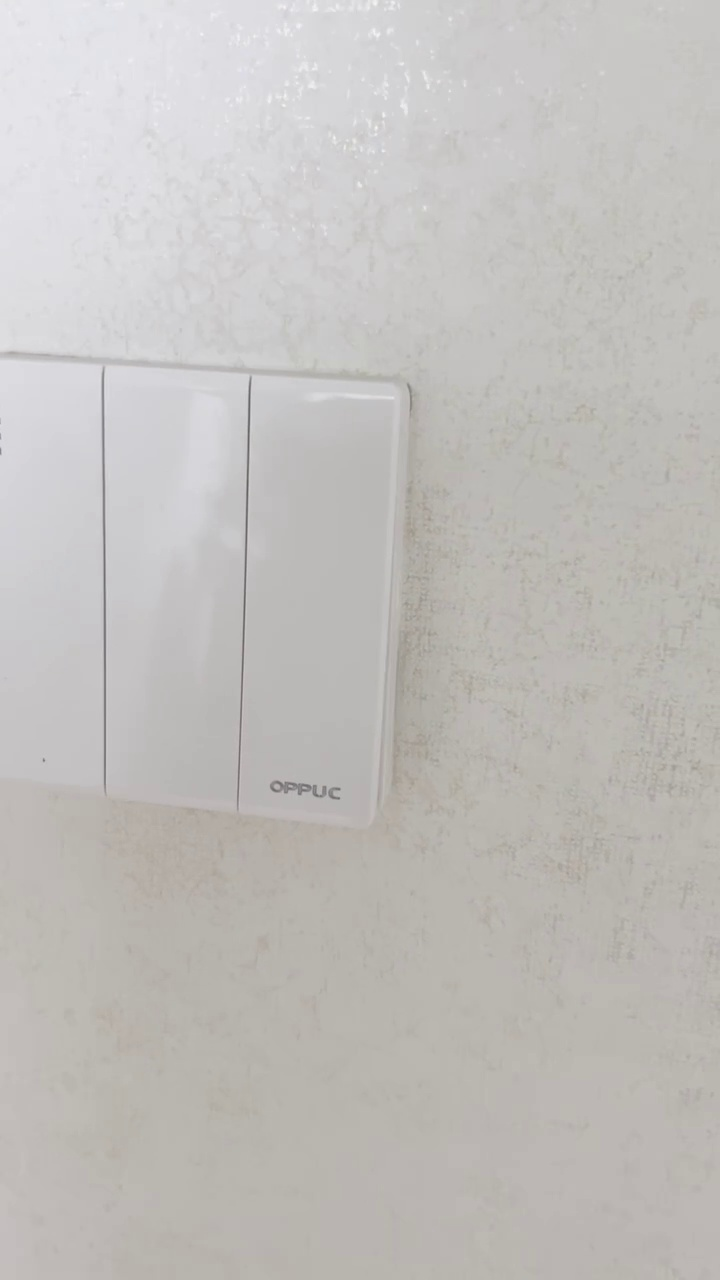button1: (245, 380, 388, 820), (104, 369, 244, 809), (0, 362, 99, 784)
